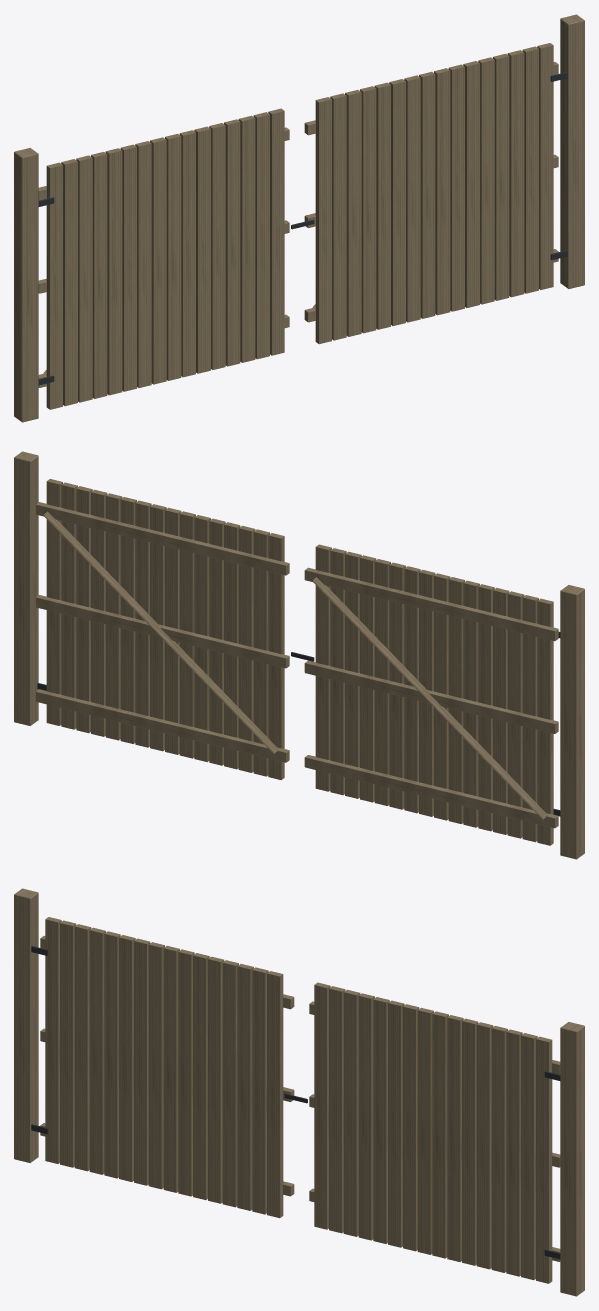
Rendered from showcase_road_gate.glb.
The picture shows the model from 3 angles, top to bottom: view 1: azimuth 30°, elevation 25°; view 2: azimuth 150°, elevation 25°; view 3: azimuth 330°, elevation 25°; orthographic projection.
Visible parts, largest first — view 1: outdoor_showcase_road_gate; view 2: outdoor_showcase_road_gate; view 3: outdoor_showcase_road_gate.
Boxes of the visible parts, x1,y1,x2,y2 form: outdoor_showcase_road_gate: [14, 14, 584, 422]; outdoor_showcase_road_gate: [14, 451, 584, 859]; outdoor_showcase_road_gate: [14, 888, 584, 1296].
Bounding box in the file's own units: 8 × 3.6 × 0.24.
Materials: 2 (2 with a texture image).
